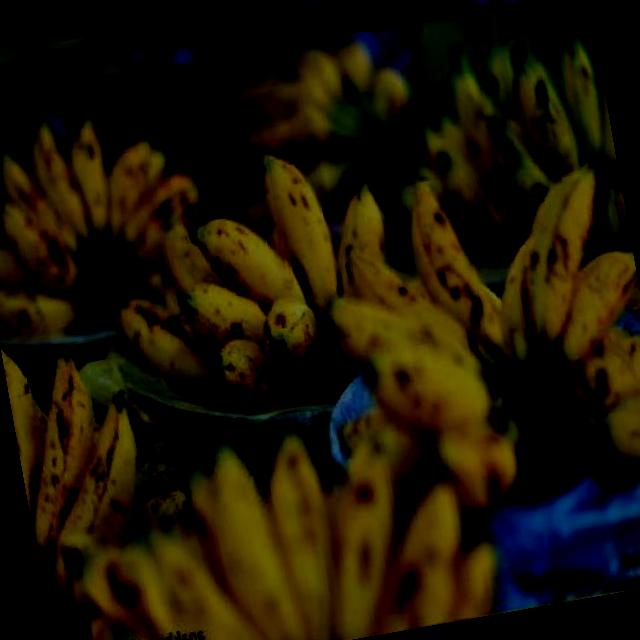Banana: (297, 150, 640, 541), (57, 402, 508, 640), (107, 128, 420, 436), (372, 10, 630, 275), (0, 316, 209, 640), (0, 90, 223, 324)
